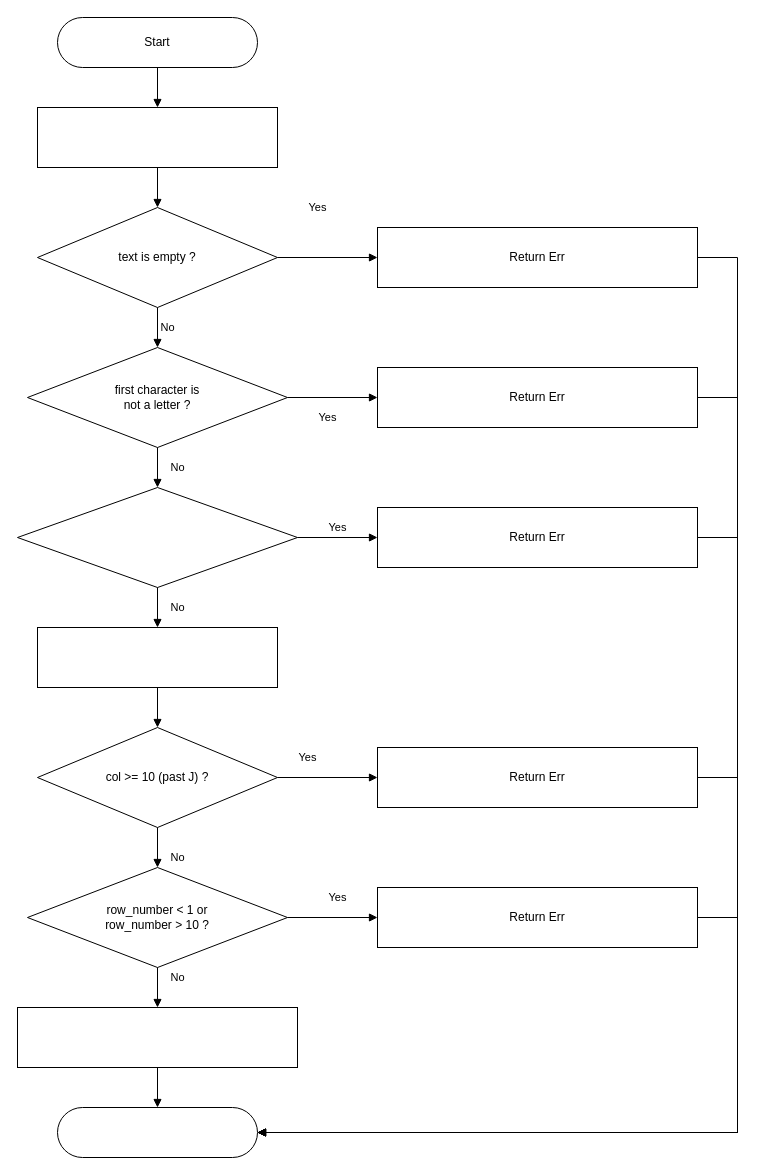
This 763x1175 diagram has some shape labels left out. Here are the shapes that lost their labels. From the top down, the centre of each, then its label:
At (157,137): "text = text.trim()".
At (157,537): "text after the letter is not a whole number ?".
At (157,657): "letter = first character, uppercase col = letter - 'A'".
At (157,1037): "Return Ok".
At (157,1132): "End".
